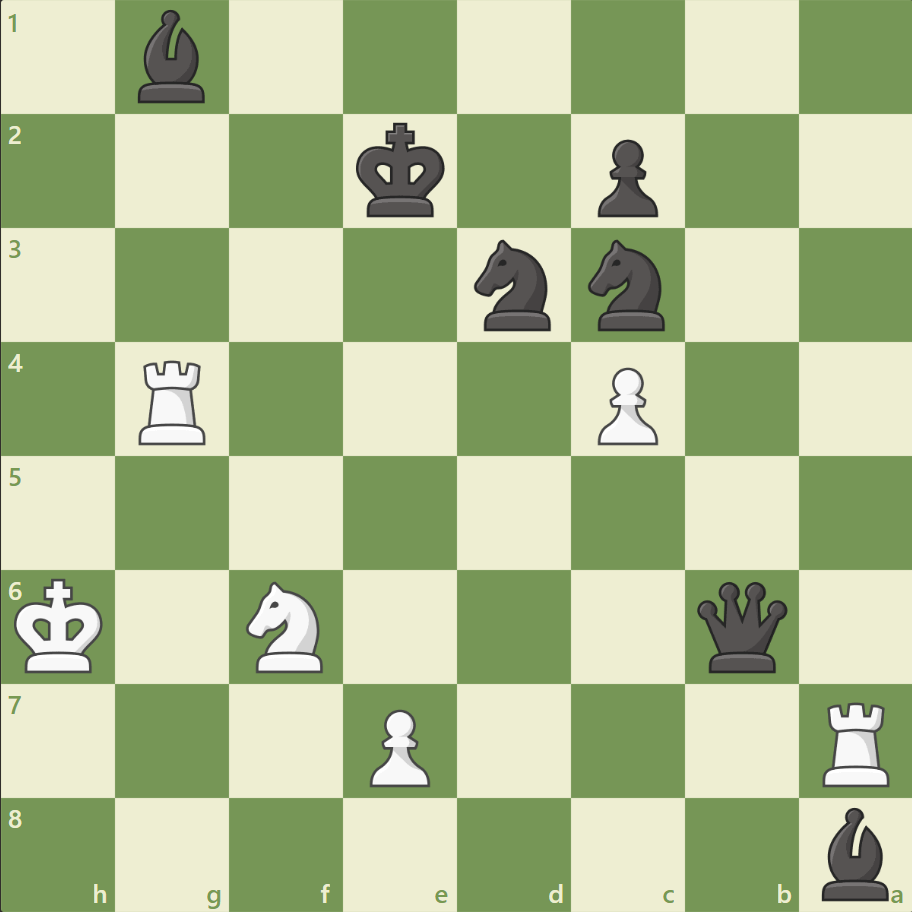K: (11, 571, 111, 679)
N: (238, 575, 335, 677)
P: (361, 700, 435, 791), (588, 359, 662, 450)
R: (814, 693, 897, 790), (133, 352, 215, 449)
b: (812, 801, 896, 904), (131, 6, 215, 109)
k: (351, 117, 451, 225)
n: (579, 234, 676, 337), (465, 234, 562, 337)
p: (588, 132, 662, 223)
q: (691, 576, 790, 676)
